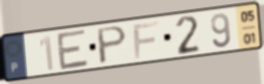1: (39, 34, 55, 72)
2: (174, 14, 202, 57)
9: (209, 12, 233, 50)
E: (55, 27, 91, 72)
F: (131, 19, 161, 61)
P: (95, 24, 129, 67)
